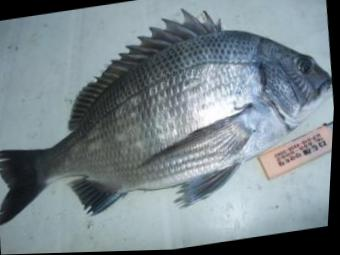fish: (0, 9, 333, 227)
